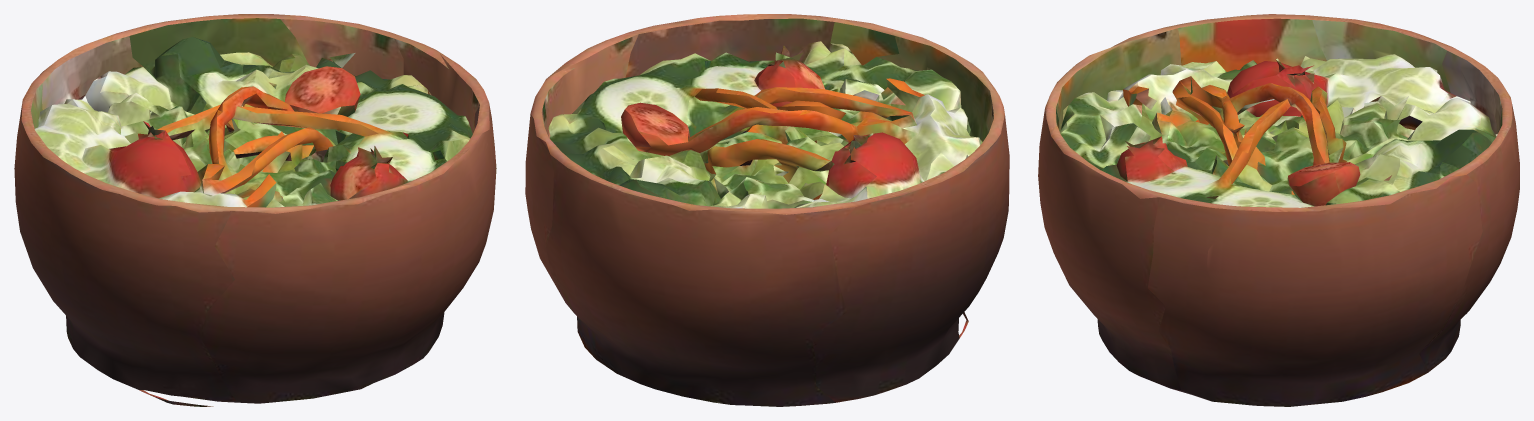
Rendered from salad.glb.
3 views of the same model, side by side, from view 1: azimuth 30°, elevation 25°; view 2: azimuth 150°, elevation 25°; view 3: azimuth 270°, elevation 25° (orthographic).
Visible parts, largest first — view 1: item_salad; view 2: item_salad; view 3: item_salad.
Part boxes in pixels (x1,y1,x2,y2): item_salad: [14, 14, 496, 406]; item_salad: [525, 14, 1009, 406]; item_salad: [1038, 14, 1519, 406].
Size of the model in its own units: 0.9967 by 0.5335 by 1.
Materials: 1 (1 with a texture image).
